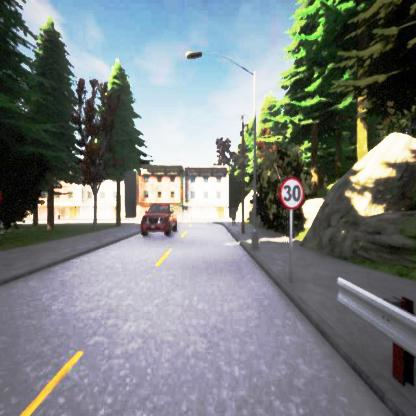vehicle: (140, 204, 177, 235)
